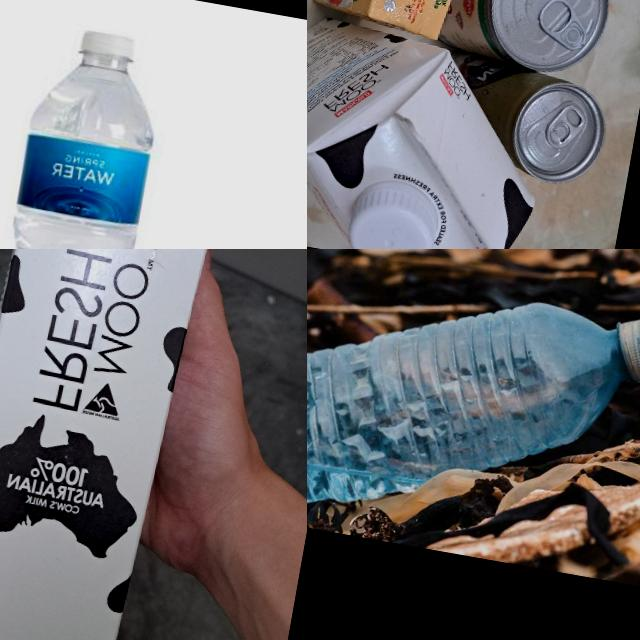aba de lata: (531, 0, 594, 55), (542, 99, 588, 150)
caixinha: (0, 249, 228, 640), (307, 2, 561, 249), (308, 0, 472, 39)
garrafa plástica: (307, 256, 635, 555), (0, 44, 166, 249)
lata: (445, 58, 609, 186), (435, 0, 617, 77)
tampa plástica: (341, 167, 451, 249), (78, 28, 137, 62), (611, 314, 640, 383)
